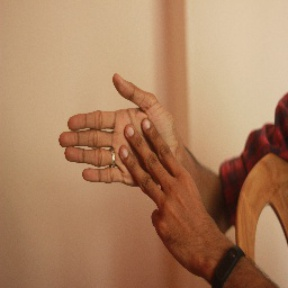M: (58, 69, 195, 216)
